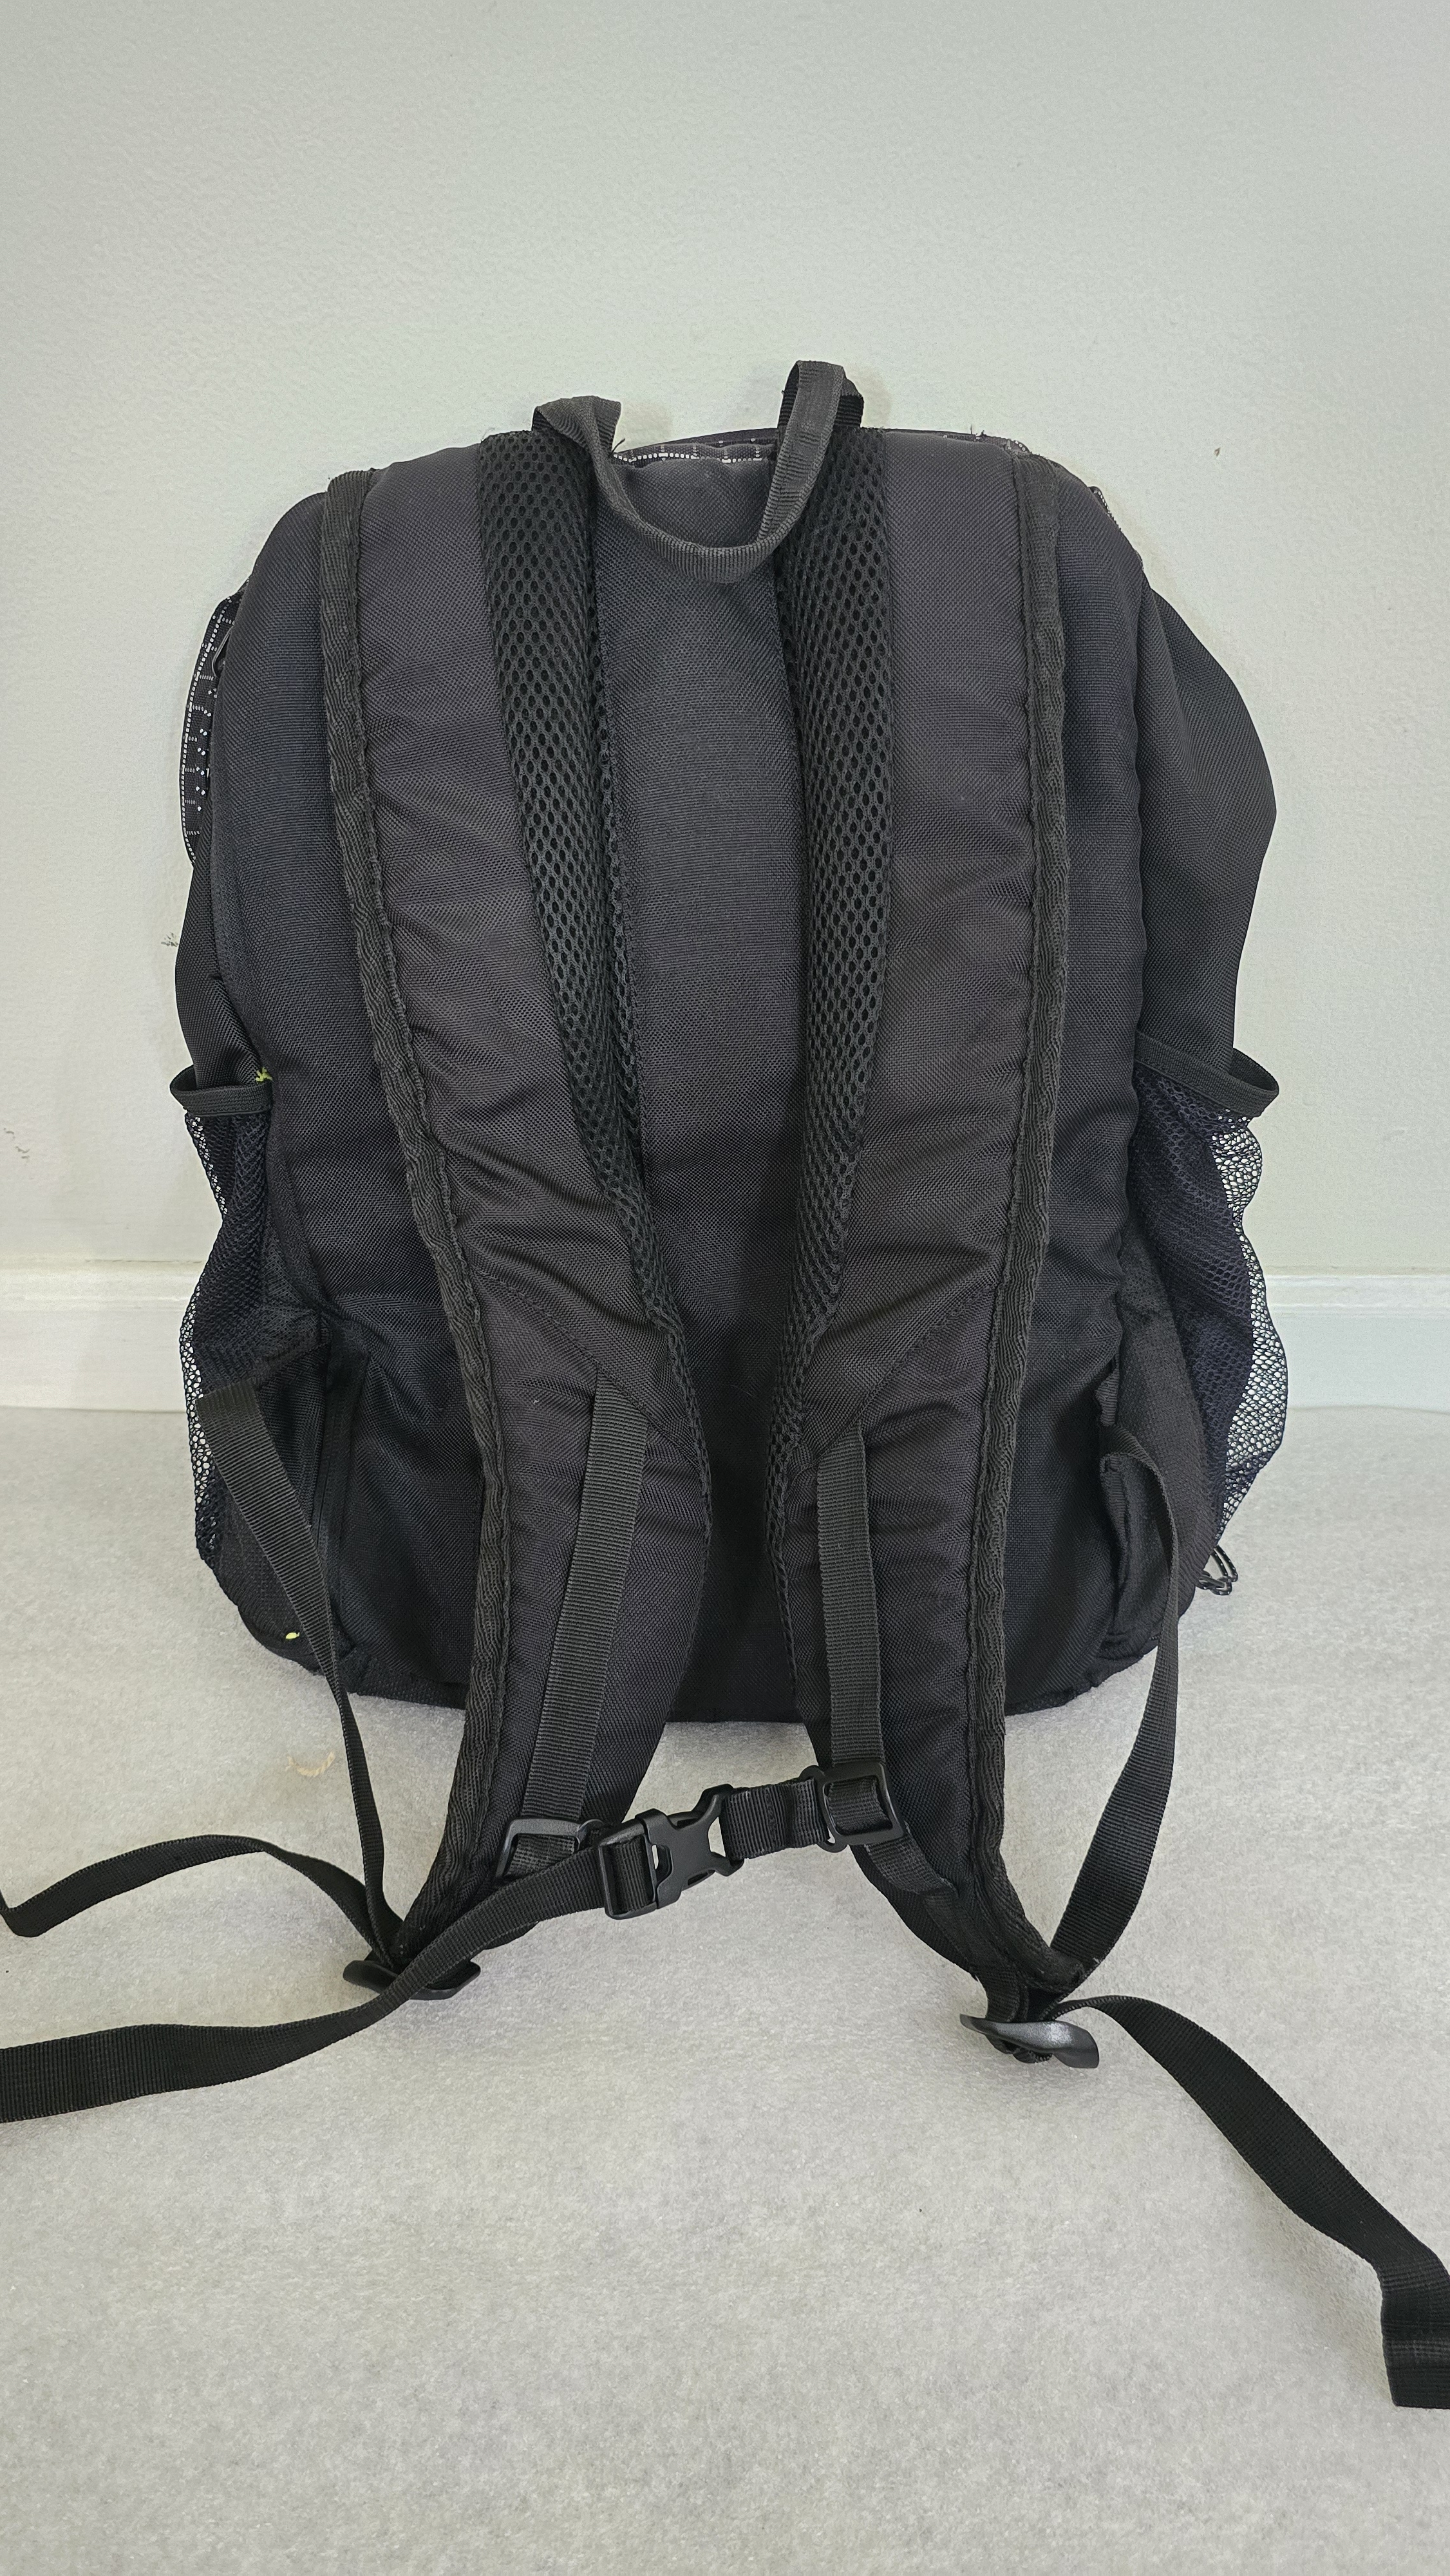bag: (159, 416, 1314, 1833)
